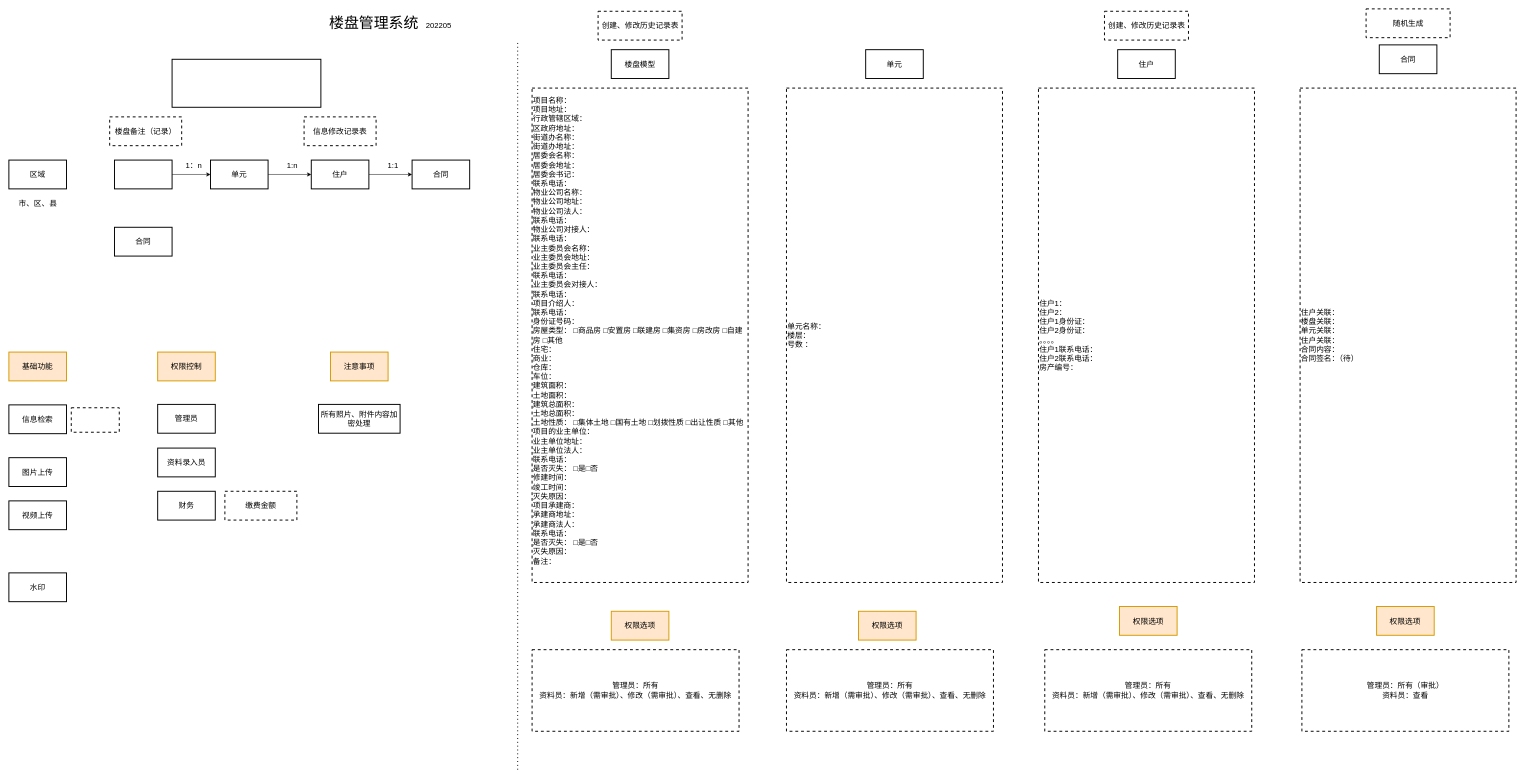
Image size: 1524x779. Some labels were removed from this diagram. The centre of each missing label's shape, as x and y in pixels:
"住户表" belongs at [95,419].
"整体结构" belongs at [246,83].
"楼盘" belongs at [143,174].
